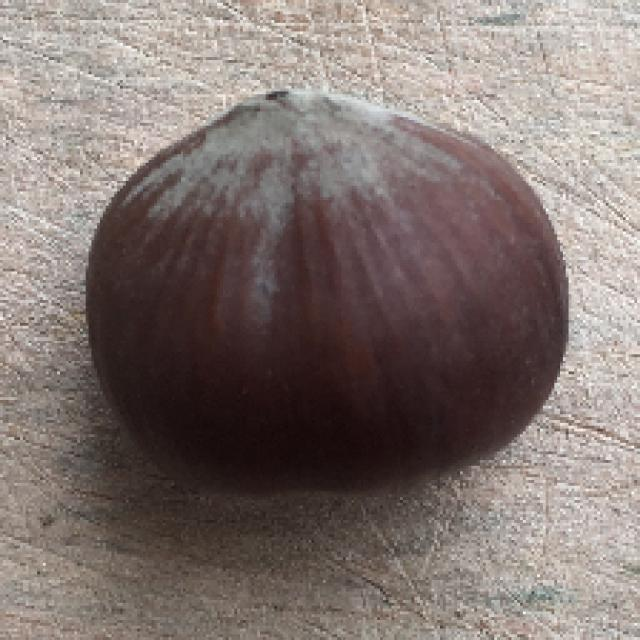damagedHazelnut: (90, 86, 572, 503)
